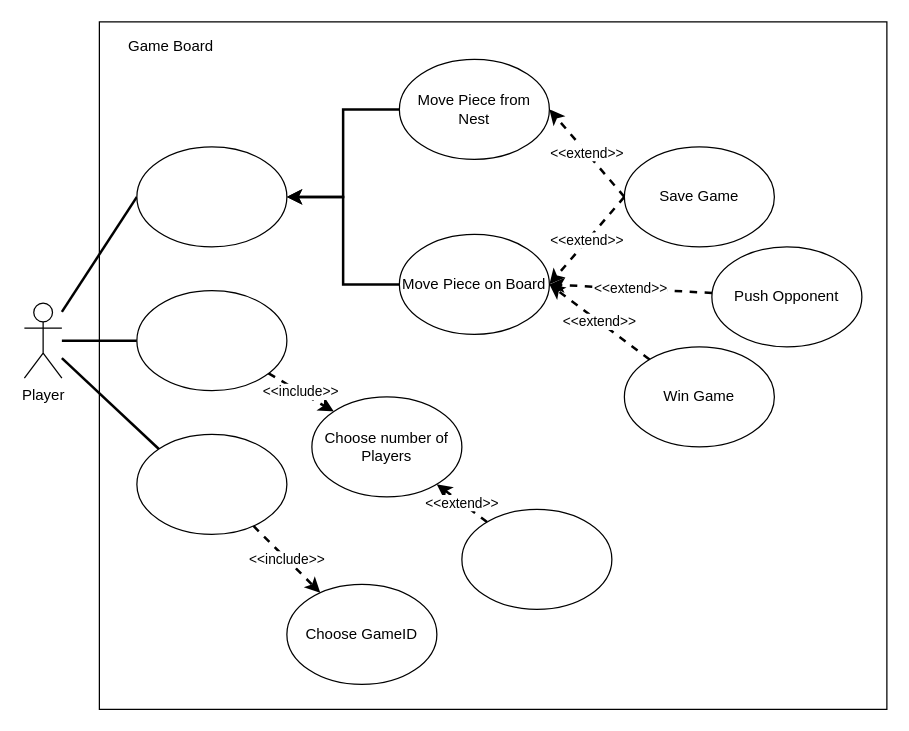
Some shapes in this 909 by 731 pixel diagram are drawn without their labels. Here are the shapes that lost their labels. From the top down, the centre of each, then its label:
At pixel 211 196: "Roll Dice".
At pixel 211 340: "Create new Game".
At pixel 211 483: "Load Game".
At pixel 536 558: "Choose Colors".
